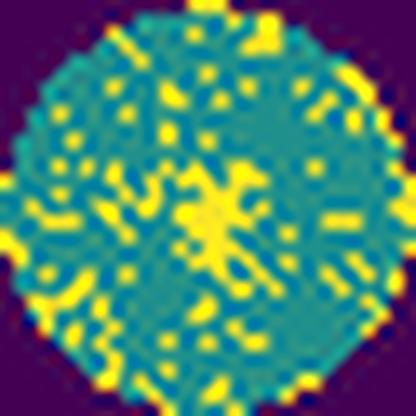Center: (98, 154, 292, 299)
